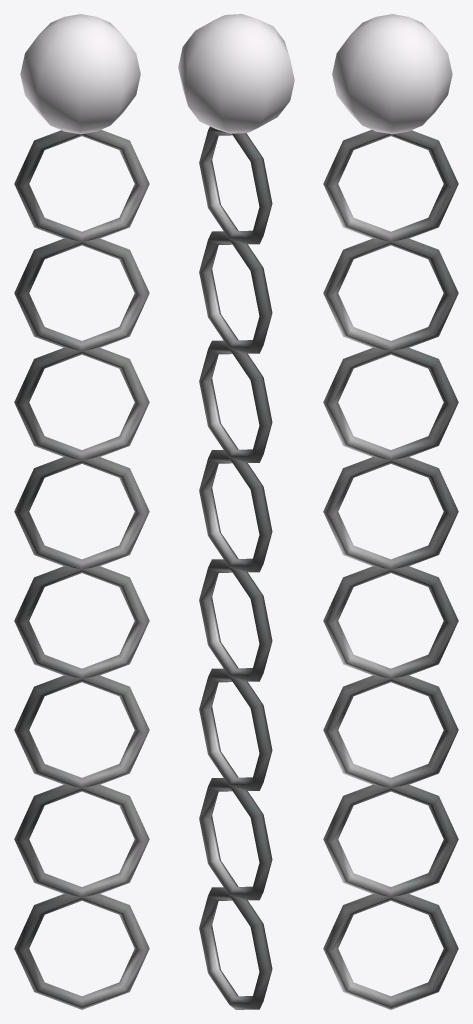
Rendered from GreenHillSwingPlatformChain.obj.
3 views of the same model, side by side, from view 1: azimuth 90°, elevation 25°; view 2: azimuth 210°, elevation 25°; view 3: azimuth 270°, elevation 25° (orthographic).
Size of the model in its own units: 7.04 by 63.87 by 7.92.
2 materials, 2 textured.
